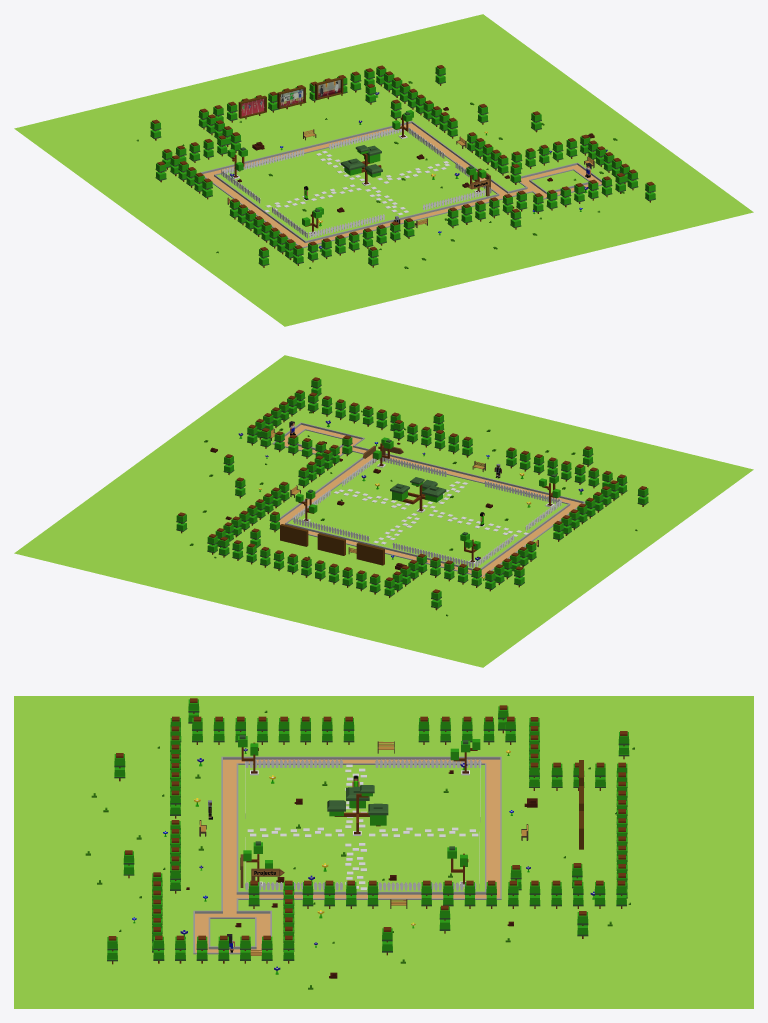
File: Portfolio4.glb
3 renders of one model, top to bottom at view 1: azimuth 30°, elevation 25°; view 2: azimuth 150°, elevation 25°; view 3: azimuth 270°, elevation 25°, orthographic. The views are drawn at different scales.
Visible parts, largest first — view 1: Level; view 2: Level; view 3: Level.
Boxes of the visible parts, bbox=[...] form: Level: bbox=[14, 14, 753, 326]; Level: bbox=[14, 355, 753, 667]; Level: bbox=[14, 696, 753, 1008].
Size of what is drawn, in the model's own units: 421 by 30.27 by 421.
Materials: 40 (3 with a texture image).
